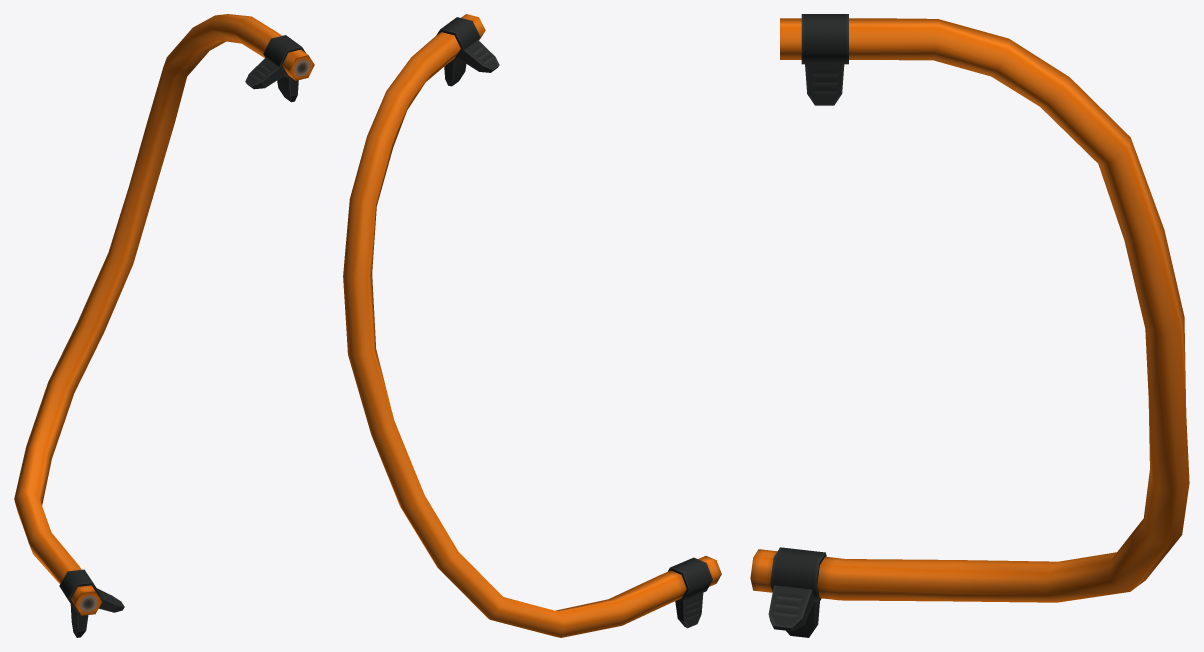
Rendered from jsf_GasRange_12d.fbx.
The picture shows the model from 3 angles, left to right: view 1: azimuth 30°, elevation 25°; view 2: azimuth 150°, elevation 25°; view 3: azimuth 270°, elevation 25°; orthographic projection. The views are drawn at different scales.
Visible parts, largest first — view 1: GasHose; view 2: GasHose; view 3: GasHose.
Part boxes in pixels (x1,y1,x2,y2): GasHose: (14,14,314,637); GasHose: (343,14,721,637); GasHose: (750,14,1189,637).
Bounding box in the file's own units: 17.57 × 35.88 × 18.54.
